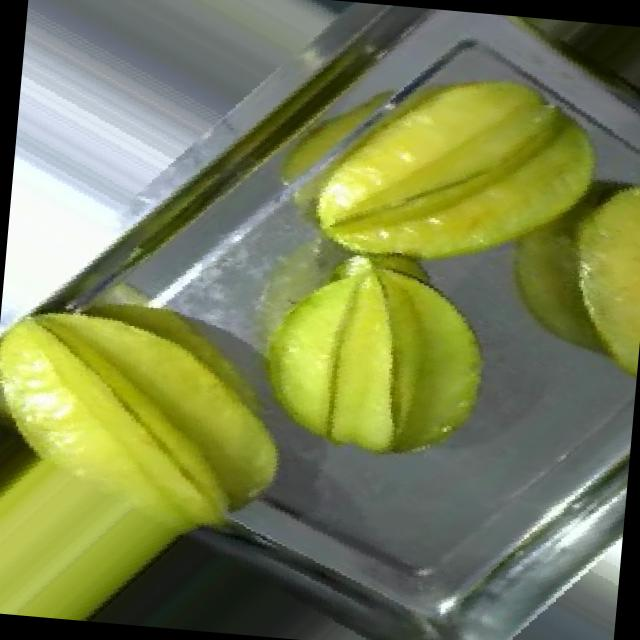fruit: (261, 8, 638, 346), (0, 260, 335, 640), (194, 205, 547, 528)
